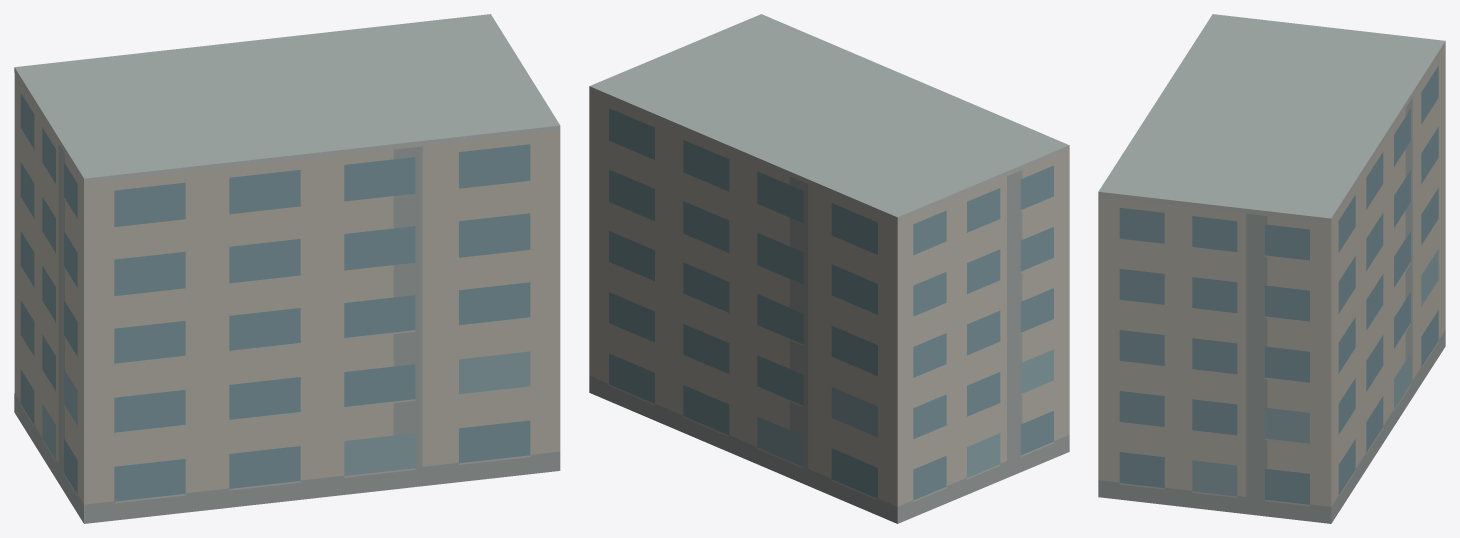
File: residential-cd601489-8601-4fdb-a822-33364161fdc5.glb
The picture shows the model from 3 angles, left to right: view 1: azimuth 30°, elevation 25°; view 2: azimuth 150°, elevation 25°; view 3: azimuth 270°, elevation 25°; orthographic projection. The views are drawn at different scales.
Parts seen in each view (by area): view 1: residential-cd601489-8601-4fdb-a822-33364161fdc5.tmp; view 2: residential-cd601489-8601-4fdb-a822-33364161fdc5.tmp; view 3: residential-cd601489-8601-4fdb-a822-33364161fdc5.tmp.
Boxes of the visible parts, <box> form: residential-cd601489-8601-4fdb-a822-33364161fdc5.tmp: <box>14,14,560,523</box>; residential-cd601489-8601-4fdb-a822-33364161fdc5.tmp: <box>589,14,1069,523</box>; residential-cd601489-8601-4fdb-a822-33364161fdc5.tmp: <box>1098,14,1445,523</box>.
Bounding box in the file's own units: 21.91 × 15.25 × 15.73.
